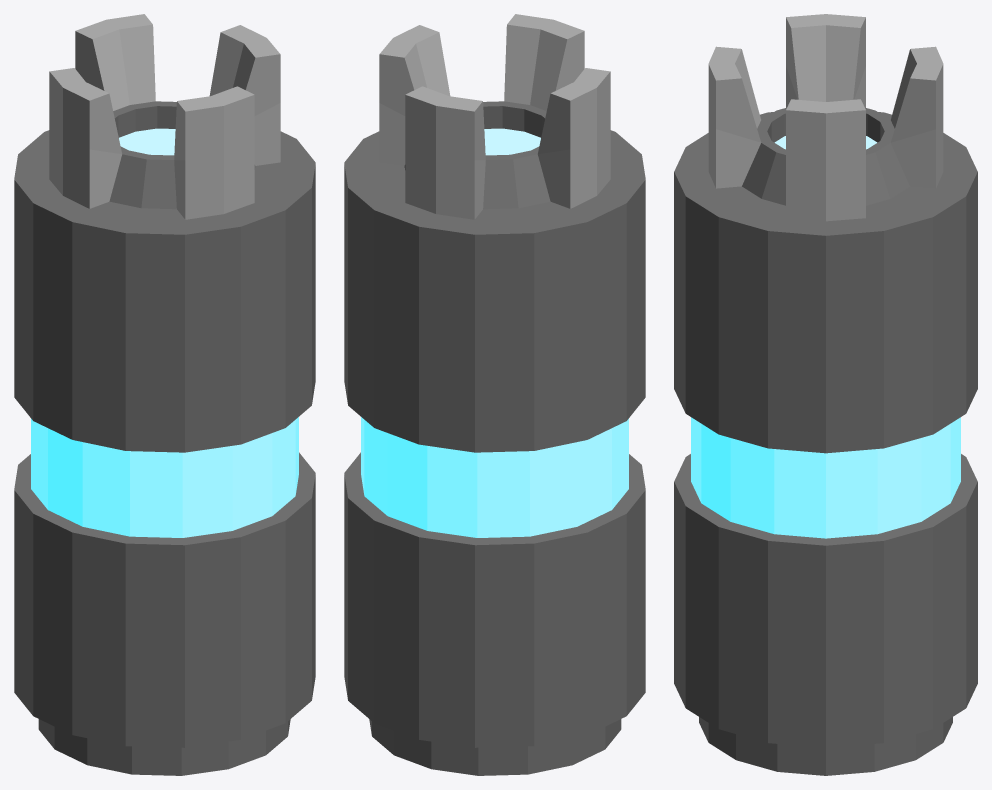
The model's file is ShardCarrier.fbx.
The picture shows the model from 3 angles, left to right: view 1: azimuth 30°, elevation 25°; view 2: azimuth 150°, elevation 25°; view 3: azimuth 270°, elevation 25°; orthographic projection.
Parts seen in each view (by area): view 1: Cylinder; view 2: Cylinder; view 3: Cylinder.
Part boxes in pixels (x1,y1,x2,y2): Cylinder: (14, 14, 315, 775); Cylinder: (344, 14, 645, 775); Cylinder: (674, 14, 977, 775).
Size of the model in its own units: 200 by 479 by 200.
